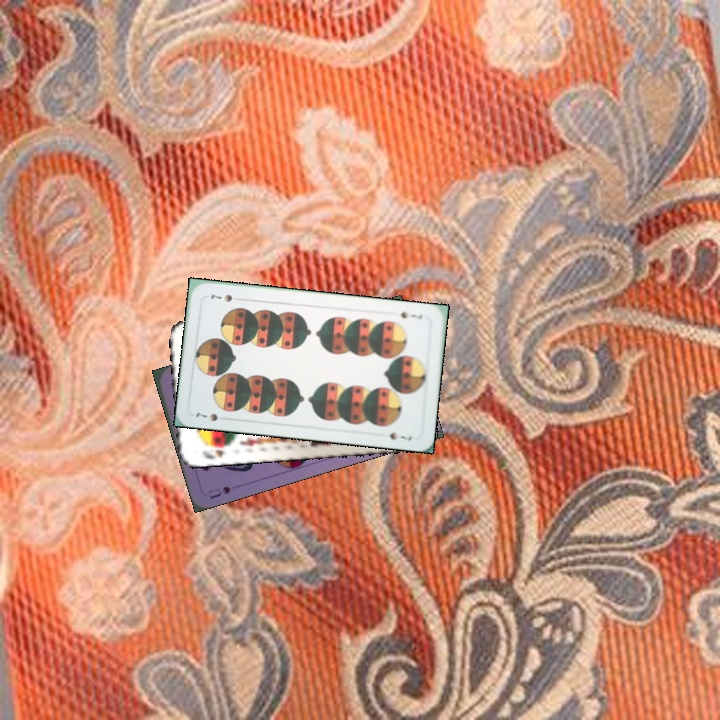S7: (192, 408, 220, 424), (397, 308, 425, 322)
SK: (198, 440, 232, 461)
SU: (204, 482, 233, 502)
